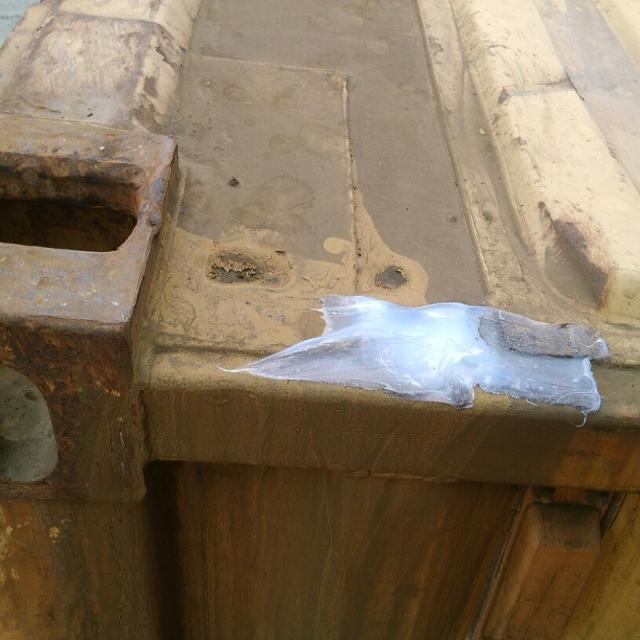hole: (200, 237, 294, 297)
